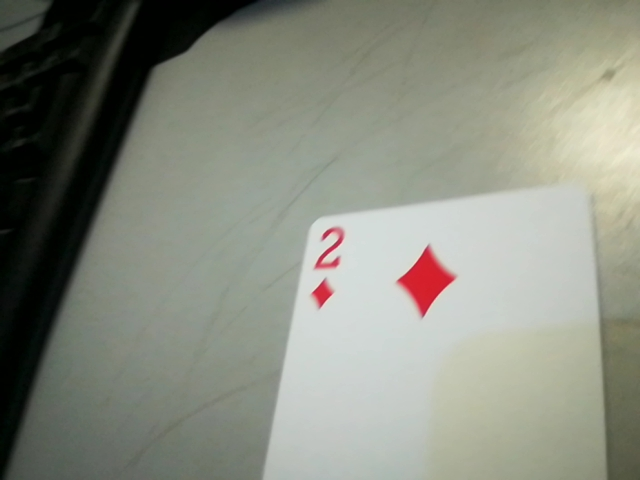fk 2: (298, 218, 355, 314)
